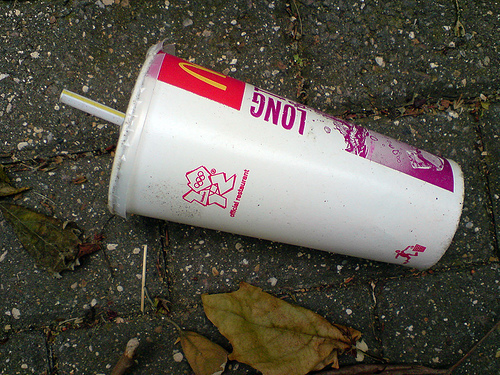litter: (58, 40, 465, 273)
